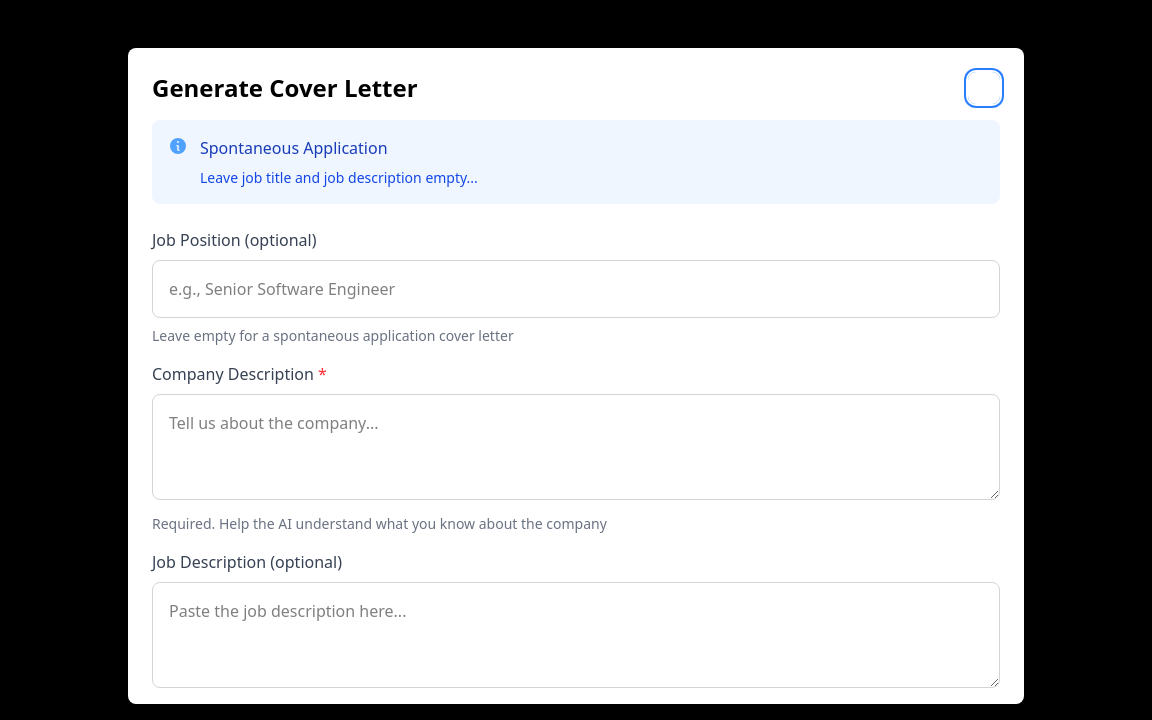
it: Cover Letter Error Handling › Client-side Validation Errors › should show validation error for company description too short
This screenshot has width=1152, height=720.
Type "Short" into the text box with placeholder "Tell us about the company..." at [576, 447], box left=152, top=394, right=1000, bottom=500
(page scrolled)
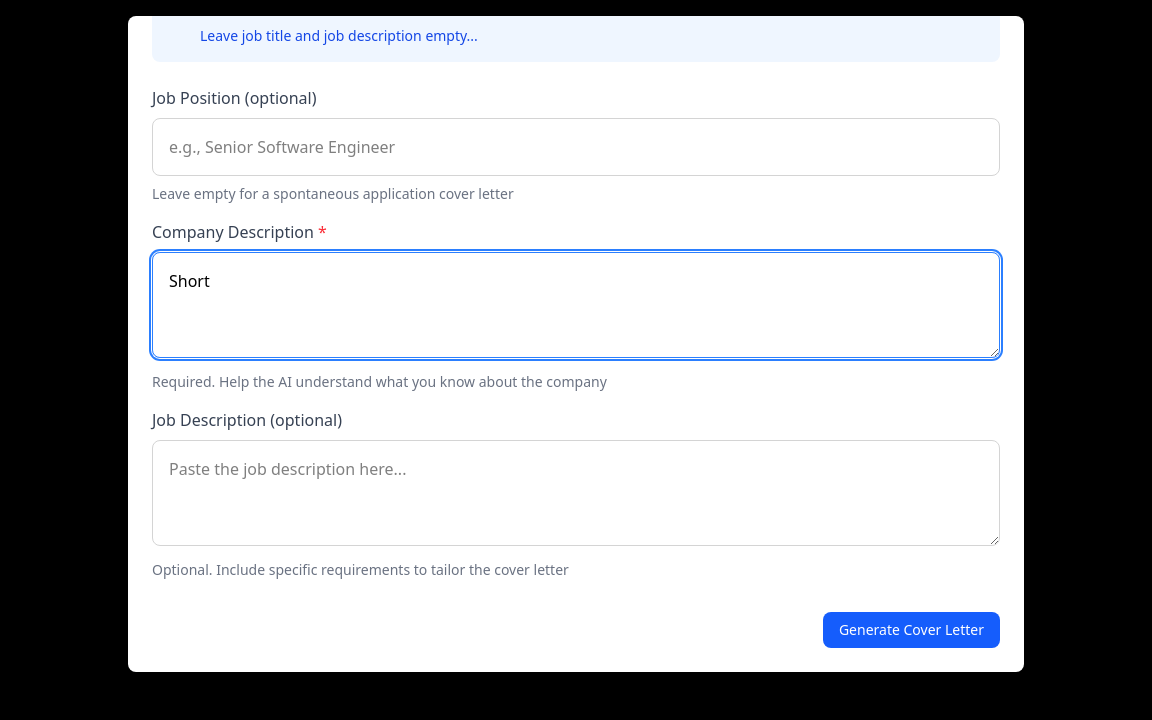
Click the button "Generate Cover Letter" at [911, 630], box left=823, top=612, right=1000, bottom=648
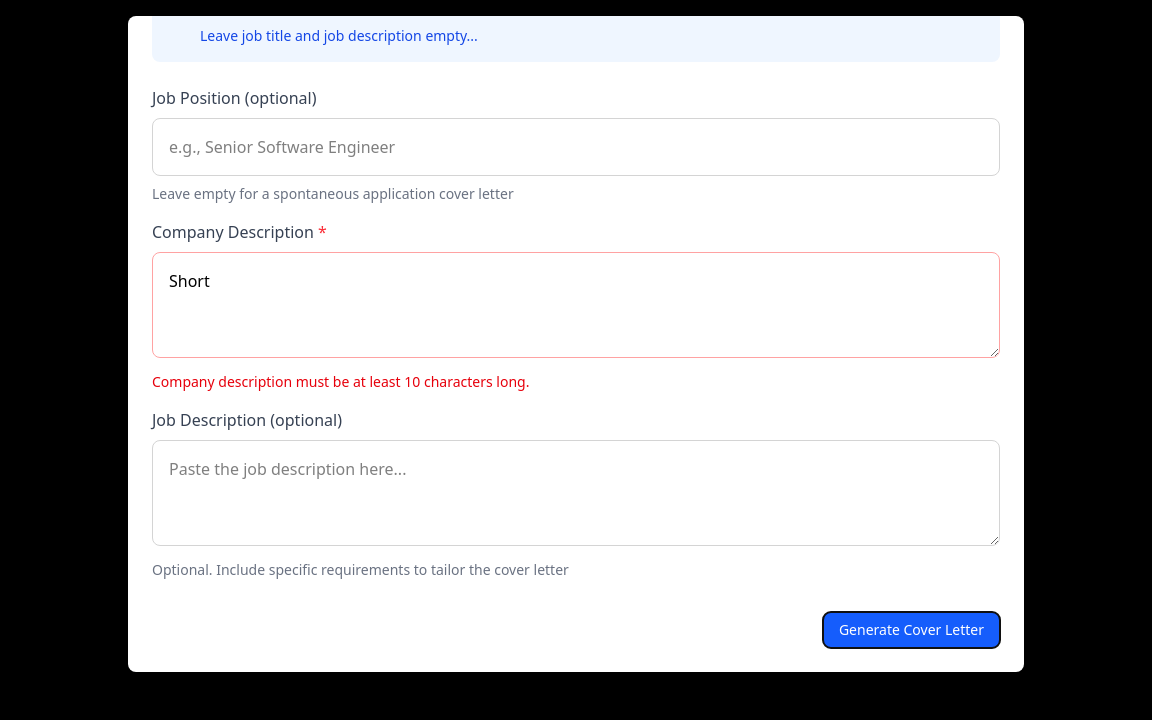
Expected: the text "Company description must be at least 10 characters long." is shown, left=152, top=372, right=529, bottom=391
